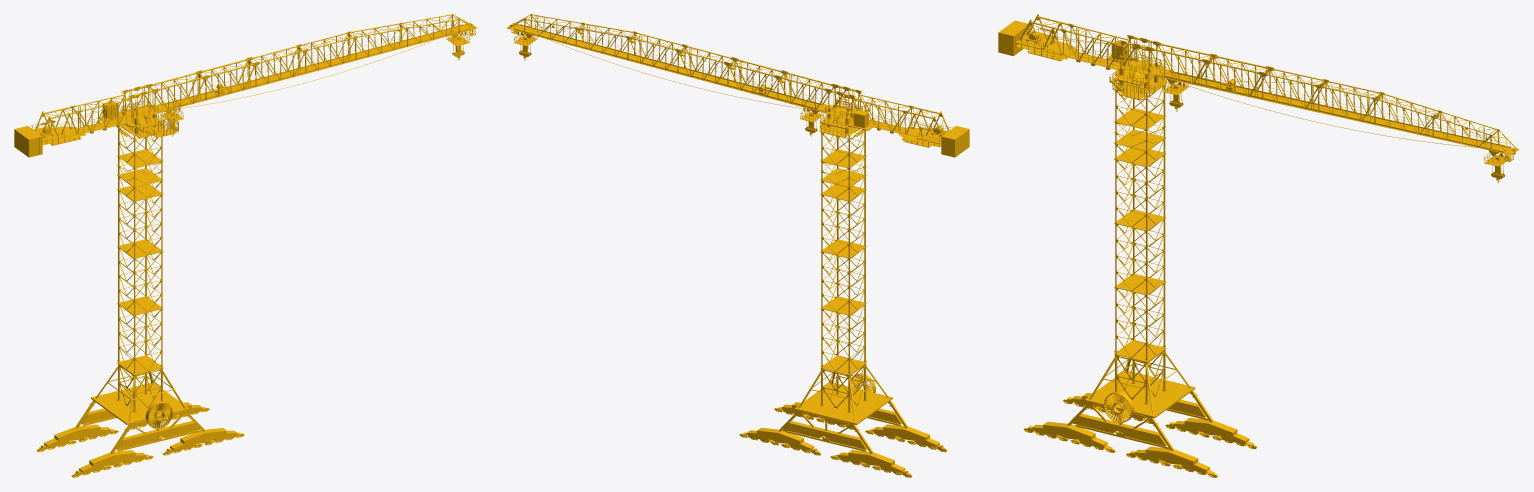
File: TTC-28.glb
3 renders of one model, left to right at view 1: azimuth 30°, elevation 25°; view 2: azimuth 150°, elevation 25°; view 3: azimuth 330°, elevation 25°, orthographic. The views are drawn at different scales.
Visible parts, largest first — view 1: 개체_3, 개체_1; view 2: 개체_3, 개체_1; view 3: 개체_3, 개체_1.
Part boxes in pixels (x1,y1,x2,y2): 개체_3: (36, 117, 244, 477); 개체_1: (14, 14, 477, 157); 개체_3: (739, 117, 947, 477); 개체_1: (506, 14, 969, 157); 개체_3: (1023, 72, 1257, 477); 개체_1: (998, 14, 1519, 182).
Size of the model in its own units: 99.65 by 75.48 by 15.08.
